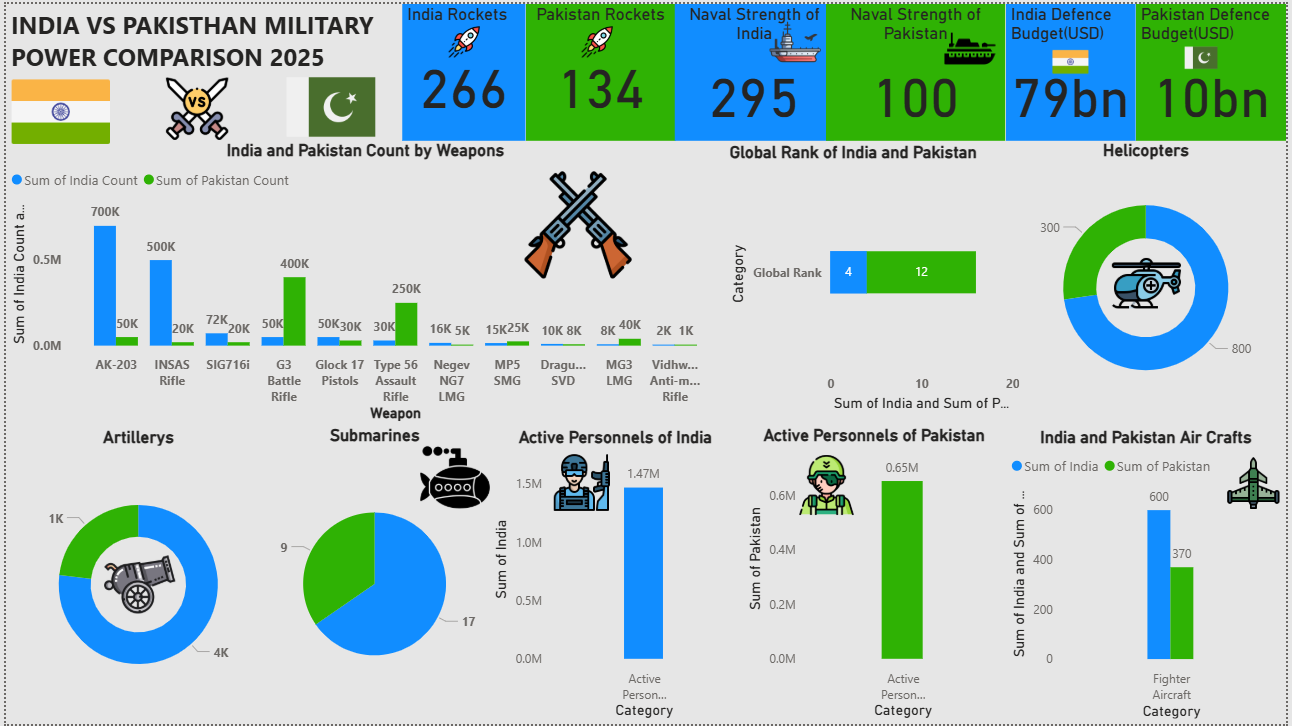

The page's visual inventory and layout, read from the dashboard file:
{"tool":"powerbi","page":{"name":"Page 5","canvas":[1280,720],"ordinal":4},"visuals":[{"type":"clusteredColumnChart","title":"India  and Pakistan Count by Weapons","fields":{"Y":["Sum(🇮🇳 India vs 🇵🇰 Pakistan — Standard Rifles and Small Arms (2025) (rifles).India Count)","Sum(🇮🇳 India vs 🇵🇰 Pakistan — Standard Rifles and Small Arms (2025) (rifles).Pakistan Count)"],"Category":["🇮🇳 India vs 🇵🇰 Pakistan — Standard Rifles and Small Arms (2025) (rifles).Weapon"]},"box":[0,136.8,719,286.1],"z":0},{"type":"columnChart","title":"Active Personnels of India","fields":{"Category":["Active personnels.Category"],"Y":["Sum(Active personnels.India)"]},"box":[482.7,422.9,253.8,297.3],"z":1000},{"type":"columnChart","title":"Active Personnels of Pakistan","fields":{"Category":["Active personnels.Category"],"Y":["Sum(Active personnels.Pakistan)"]},"box":[736.4,421.7,263.7,298.6],"z":2000},{"type":"clusteredColumnChart","title":"India and Pakistan Air Crafts","fields":{"Category":["air crafts.Category"],"Y":["Sum(air crafts.India)","Sum(air crafts.Pakistan)"]},"box":[1000.1,422.9,279.9,297.3],"z":3000},{"type":"card","title":"India Defence Budget(USD)","fields":{"Values":["Sum(Budget.India)"]},"box":[1000.1,0,129.4,136.8],"z":4000},{"type":"card","title":"Pakistan Defence Budget(USD)","fields":{"Values":["Sum(Budget.Pakistan)"]},"box":[1129.5,0,150.5,136.8],"z":5000},{"type":"barChart","title":"Global Rank of India and Pakistan","fields":{"Category":["Rank.Category"],"Y":["Sum(Rank.India)","Sum(Rank.Pakistan)"]},"box":[719,138.1,299.8,274.9],"z":6000},{"type":"card","title":"India Rockets","fields":{"Values":["Sum(rocket.India)"]},"box":[396.8,0,123.2,136.8],"z":7000},{"type":"card","title":"Pakistan Rockets","fields":{"Values":["Sum(rocket.Pakistan)"]},"box":[520,0,149.3,136.8],"z":8000},{"type":"card","title":"Naval Strength of India","fields":{"Values":["Sum(Naval.India)"]},"box":[669.3,0,159.2,136.8],"z":9000},{"type":"card","title":"Naval Strength of Pakistan","fields":{"Values":["Sum(Naval.Pakistan)"]},"box":[819.8,0,179.1,136.8],"z":10000},{"type":"textbox","box":[0,0,396.8,74.6],"z":11000},{"type":"image","box":[425.4,17.4,67.2,41.1],"z":12000},{"type":"image","box":[538.6,17.4,104.5,41.1],"z":13000},{"type":"image","box":[719,7.5,140.6,61],"z":14000},{"type":"image","box":[930.5,0,68.4,89.6],"z":15000},{"type":"image","box":[951.6,34.8,226.4,46],"z":16000},{"type":"image","box":[1155.6,32.3,77.1,42.3],"z":17000},{"type":"image","box":[232.6,53.5,184.1,98.3],"z":18000},{"type":"image","box":[0,53.5,109.5,108.2],"z":19000},{"type":"image","box":[57.2,68.4,267.5,72.1],"z":20000},{"type":"donutChart","title":"Helicopters ","fields":{"Category":["helicpters.Attribute"],"Series":["helicpters.Category"],"Y":["Sum(helicpters.Value)"]},"box":[1000.1,136.8,279.9,276.2],"z":21000},{"type":"donutChart","title":"Artillerys","fields":{"Category":["artillery.Attribute"],"Series":["artillery.Category"],"Y":["Sum(artillery.Value)"]},"box":[0,422.9,265,297.3],"z":22000},{"type":"pieChart","title":"Submarines","fields":{"Category":["submarines.Attribute"],"Series":["submarines.Category"],"Y":["Sum(submarines.Value)"]},"box":[245.1,421.7,247.5,298.6],"z":23000},{"type":"image","box":[1098.4,129.4,83.3,301],"z":24000},{"type":"image","box":[52.2,539.9,163,80.9],"z":25000},{"type":"image","box":[762.5,446.6,115.7,69.7],"z":27000},{"type":"image","box":[425.4,444.1,301,69.7],"z":28000},{"type":"image","box":[1215.3,427.9,64.7,103.2],"z":29000},{"type":"image","box":[482.7,163,179.1,116.9],"z":30000},{"type":"image","box":[406.8,434.1,85.8,79.6],"z":30001}]}

Visuals, with their boxes in screenshot pixels (x1, y1, x2, y2), scaled from the page's 1280x720 canvas onto the 1292x726 screenshot:
"India  and Pakistan Count by Weapons" clusteredColumnChart: pyautogui.locateOnScreen(0, 138, 726, 426)
"Active Personnels of India" columnChart: pyautogui.locateOnScreen(487, 426, 743, 725)
"Active Personnels of Pakistan" columnChart: pyautogui.locateOnScreen(743, 425, 1009, 725)
"India and Pakistan Air Crafts" clusteredColumnChart: pyautogui.locateOnScreen(1009, 426, 1291, 725)
"India Defence Budget(USD)" card: pyautogui.locateOnScreen(1009, 0, 1140, 138)
"Pakistan Defence Budget(USD)" card: pyautogui.locateOnScreen(1140, 0, 1291, 138)
"Global Rank of India and Pakistan" barChart: pyautogui.locateOnScreen(726, 139, 1028, 416)
"India Rockets" card: pyautogui.locateOnScreen(401, 0, 525, 138)
"Pakistan Rockets" card: pyautogui.locateOnScreen(525, 0, 676, 138)
"Naval Strength of India" card: pyautogui.locateOnScreen(676, 0, 836, 138)
"Naval Strength of Pakistan" card: pyautogui.locateOnScreen(827, 0, 1008, 138)
textbox: pyautogui.locateOnScreen(0, 0, 401, 75)
image: pyautogui.locateOnScreen(429, 18, 497, 59)
image: pyautogui.locateOnScreen(544, 18, 649, 59)
image: pyautogui.locateOnScreen(726, 8, 868, 69)
image: pyautogui.locateOnScreen(939, 0, 1008, 90)
image: pyautogui.locateOnScreen(961, 35, 1189, 81)
image: pyautogui.locateOnScreen(1166, 33, 1244, 75)
image: pyautogui.locateOnScreen(235, 54, 421, 153)
image: pyautogui.locateOnScreen(0, 54, 111, 163)
image: pyautogui.locateOnScreen(58, 69, 328, 142)
"Helicopters " donutChart: pyautogui.locateOnScreen(1009, 138, 1291, 416)
"Artillerys" donutChart: pyautogui.locateOnScreen(0, 426, 267, 725)
"Submarines" pieChart: pyautogui.locateOnScreen(247, 425, 497, 725)
image: pyautogui.locateOnScreen(1109, 130, 1193, 434)
image: pyautogui.locateOnScreen(53, 544, 217, 626)
image: pyautogui.locateOnScreen(770, 450, 886, 521)
image: pyautogui.locateOnScreen(429, 448, 733, 518)
image: pyautogui.locateOnScreen(1227, 431, 1291, 536)
image: pyautogui.locateOnScreen(487, 164, 668, 282)
image: pyautogui.locateOnScreen(411, 438, 497, 518)
